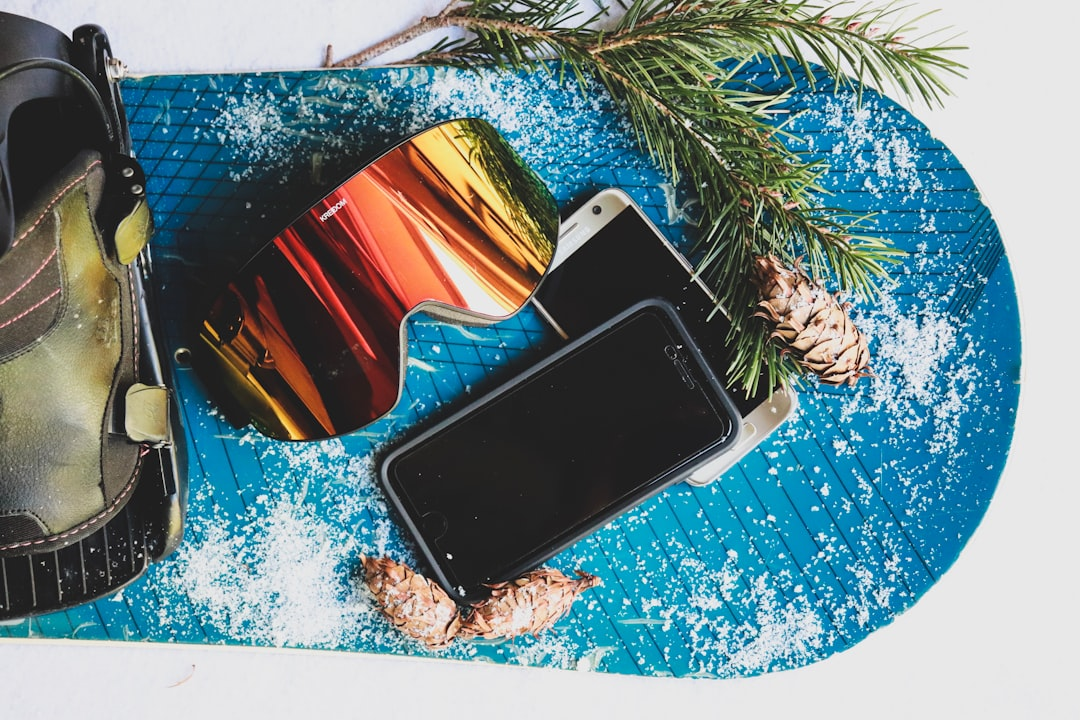phone: (380, 298, 740, 605)
